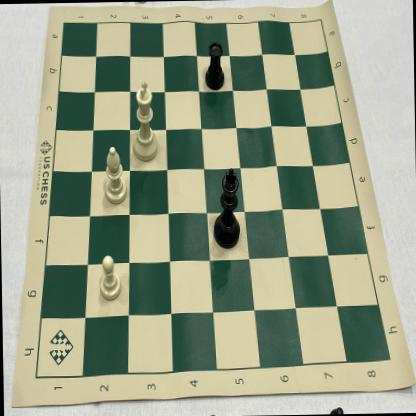bishop: (101, 144, 128, 204)
king: (210, 165, 242, 251), (130, 76, 160, 163)
pawn: (96, 252, 121, 303)
rook: (203, 40, 226, 92)
